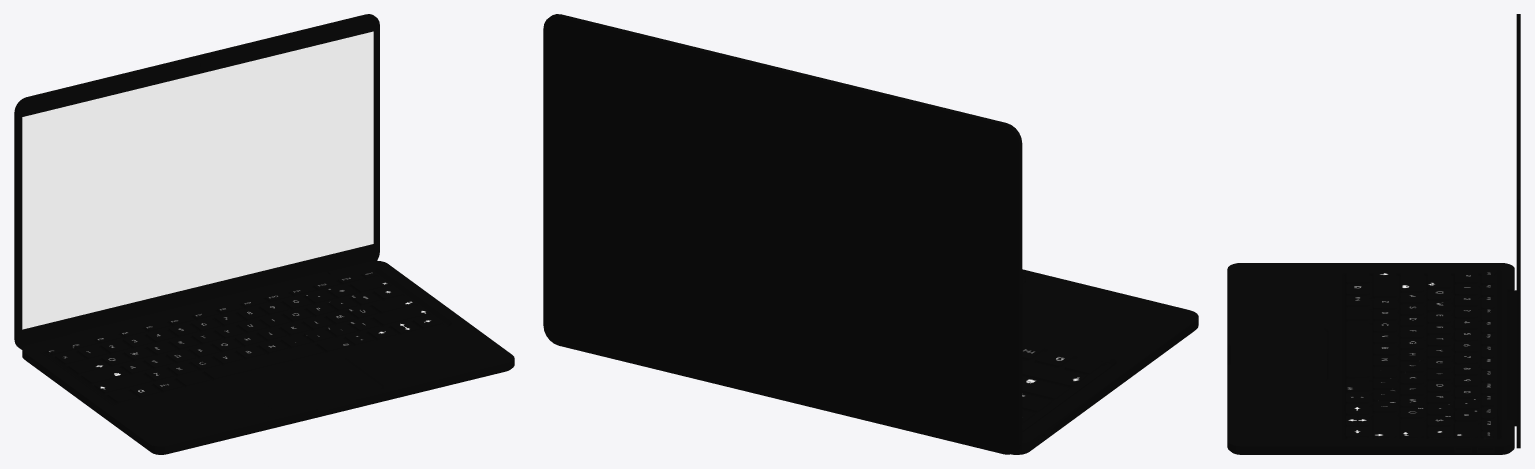
File: helix-machine.glb
3 views of the same model, side by side, from view 1: azimuth 30°, elevation 25°; view 2: azimuth 150°, elevation 25°; view 3: azimuth 270°, elevation 25° (orthographic). The views are drawn at different scales.
Visible parts, largest first — view 1: Screen, Frame; view 2: Screen, Frame; view 3: Frame, Screen.
Boxes of the visible parts, x1=… form: Screen: x1=14, y1=14, x2=379, y2=349; Frame: x1=22, y1=260, x2=514, y2=454; Screen: x1=543, y1=14, x2=1022, y2=454; Frame: x1=1011, y1=269, x2=1198, y2=454; Frame: x1=1227, y1=263, x2=1514, y2=454; Screen: x1=1508, y1=14, x2=1520, y2=448.
Size of the model in its own units: 30.4 by 20.56 by 20.5.
Materials: 2 (2 with a texture image).
